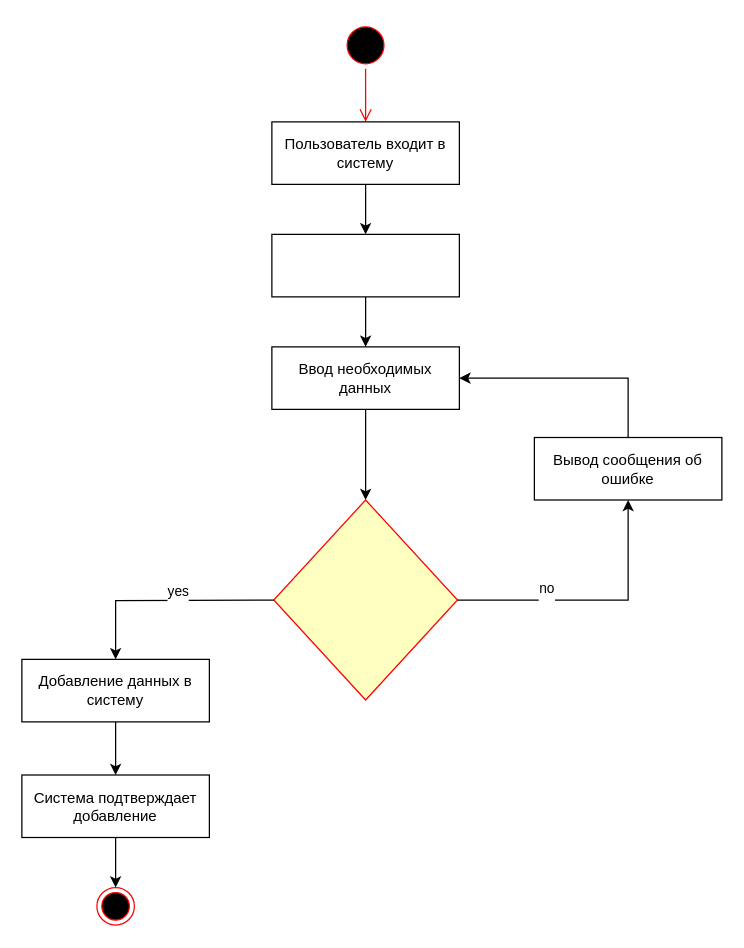
Some shapes in this 744 by 948 pixel diagram are drawn without their labels. Each missing label, with the box of its shape:
Выбор объекта дя создания: (271, 233, 459, 297)
Пользователь ввел корректные данные?: (272, 499, 458, 700)
